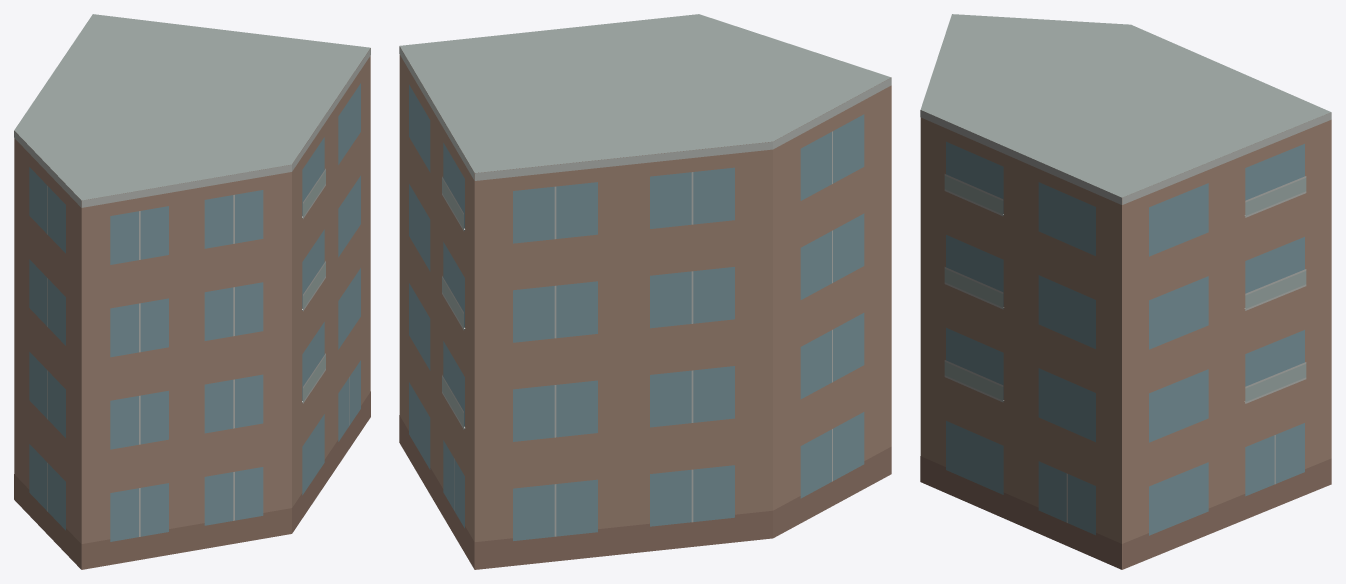
Rendered from residential-f42bc18b-7b4a-40bd-b193-b63b186fbddf.glb.
3 renders of one model, left to right at view 1: azimuth 30°, elevation 25°; view 2: azimuth 150°, elevation 25°; view 3: azimuth 270°, elevation 25°, orthographic. The views are drawn at different scales.
Parts seen in each view (by area): view 1: residential-f42bc18b-7b4a-40bd-b193-b63b186fbddf.tmp; view 2: residential-f42bc18b-7b4a-40bd-b193-b63b186fbddf.tmp; view 3: residential-f42bc18b-7b4a-40bd-b193-b63b186fbddf.tmp.
Part boxes in pixels (box(x1,y1,x2,y2)): residential-f42bc18b-7b4a-40bd-b193-b63b186fbddf.tmp: box(14, 14, 370, 569); residential-f42bc18b-7b4a-40bd-b193-b63b186fbddf.tmp: box(399, 14, 891, 569); residential-f42bc18b-7b4a-40bd-b193-b63b186fbddf.tmp: box(920, 14, 1331, 569).
Size of the model in its own units: 12.93 by 12.2 by 12.22.
